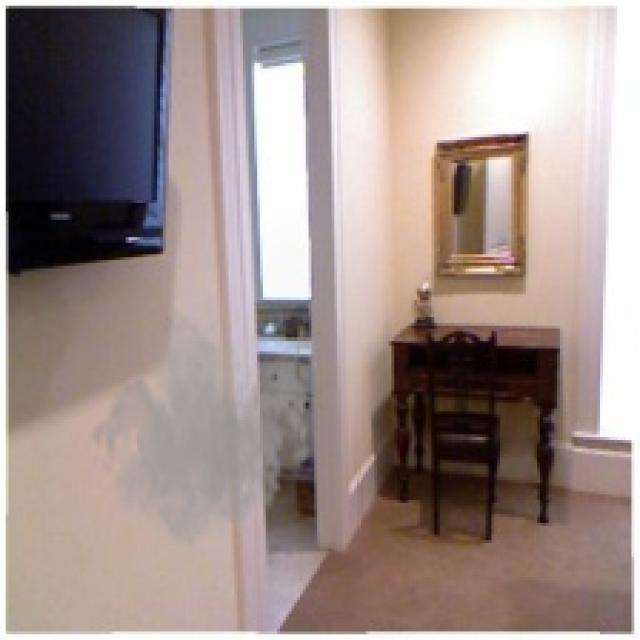smoke: (88, 283, 323, 563)
